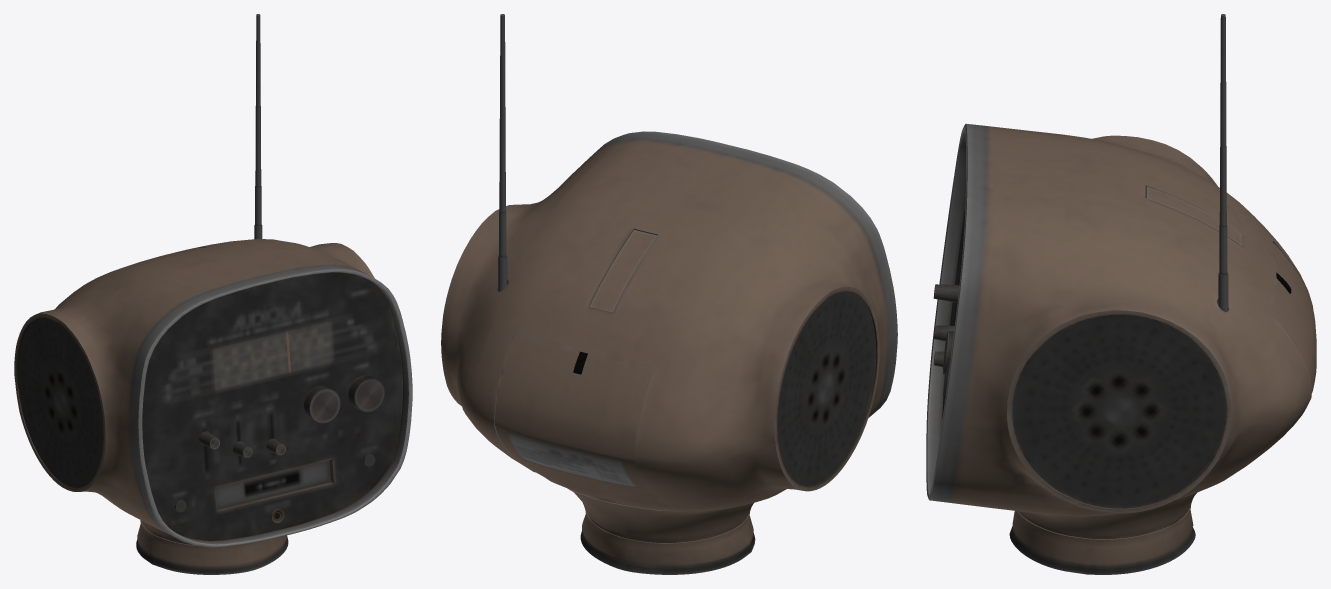
The model's file is space-age-radio-a3c888.glb.
The picture shows the model from 3 angles, left to right: view 1: azimuth 30°, elevation 25°; view 2: azimuth 150°, elevation 25°; view 3: azimuth 270°, elevation 25°; orthographic projection. The views are drawn at different scales.
Visible parts, largest first — view 1: PropMesh; view 2: PropMesh; view 3: PropMesh.
Part boxes in pixels (left/top/right/bottom): PropMesh: left=14, top=14, right=412, bottom=574; PropMesh: left=441, top=14, right=897, bottom=574; PropMesh: left=926, top=14, right=1316, bottom=574.
Size of the model in its own units: 0.3248 by 0.5 by 0.3067.
1 material, 1 textured.
